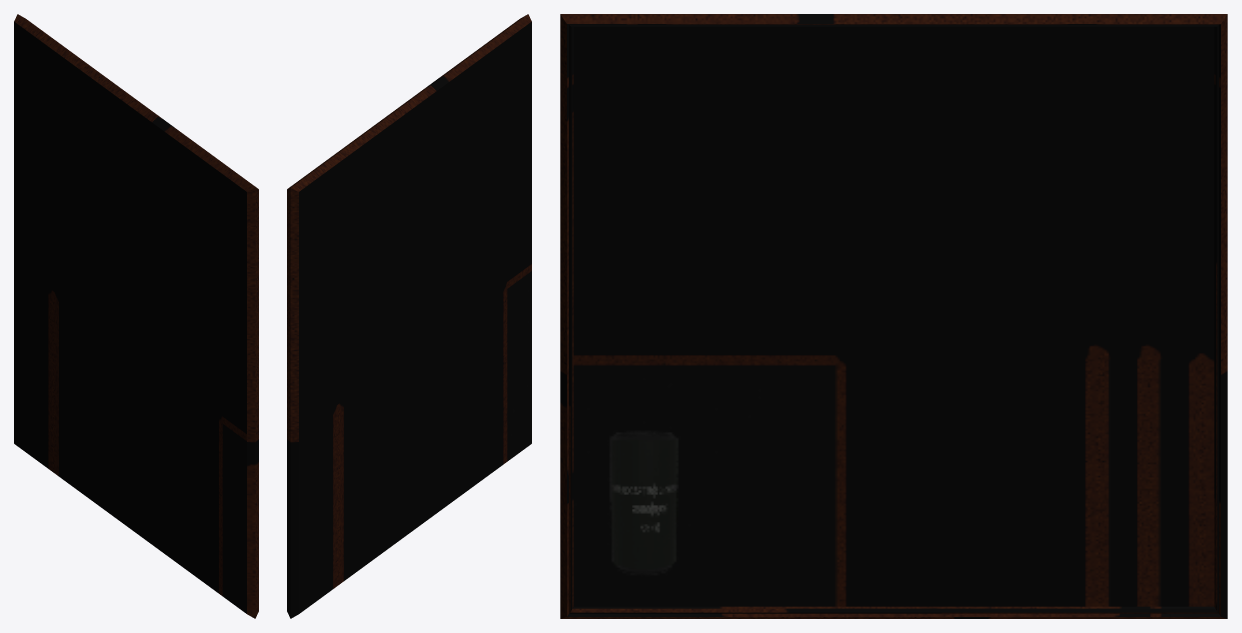
Rendered from BeerFrame.fbx.
3 views of the same model, side by side, from view 1: azimuth 30°, elevation 25°; view 2: azimuth 150°, elevation 25°; view 3: azimuth 270°, elevation 25° (orthographic). The views are drawn at different scales.
Parts seen in each view (by area): view 1: image_beer_Baked; view 2: image_beer_Baked; view 3: image_beer_Baked.
Part boxes in pixels (x1,y1,x2,y2): image_beer_Baked: (14,14,258,618); image_beer_Baked: (287,14,531,618); image_beer_Baked: (560,14,1227,618).
Bounding box in the file's own units: 1.16 × 40.82 × 40.82.
